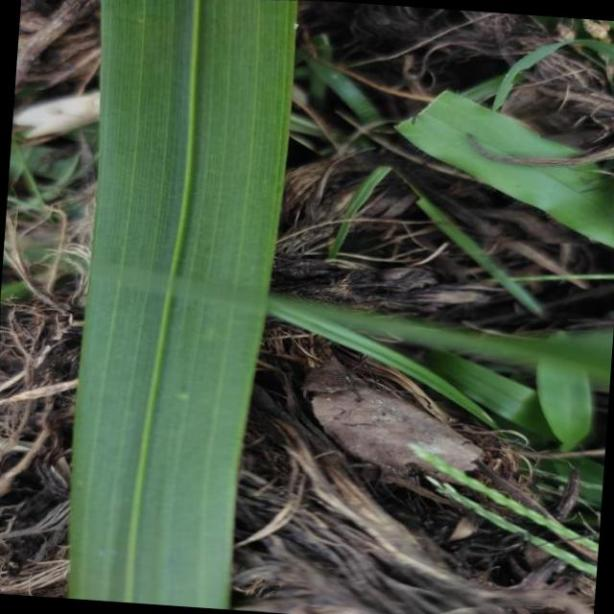Healthy: (67, 0, 296, 614)
